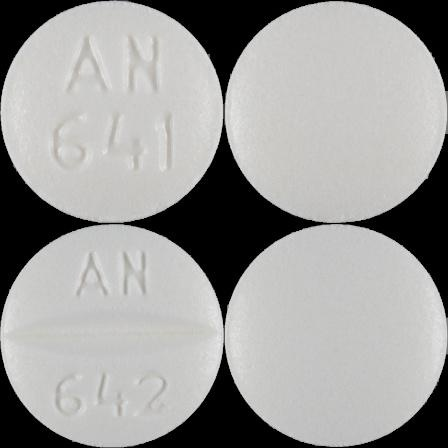65162-641: (0, 0, 224, 224)
